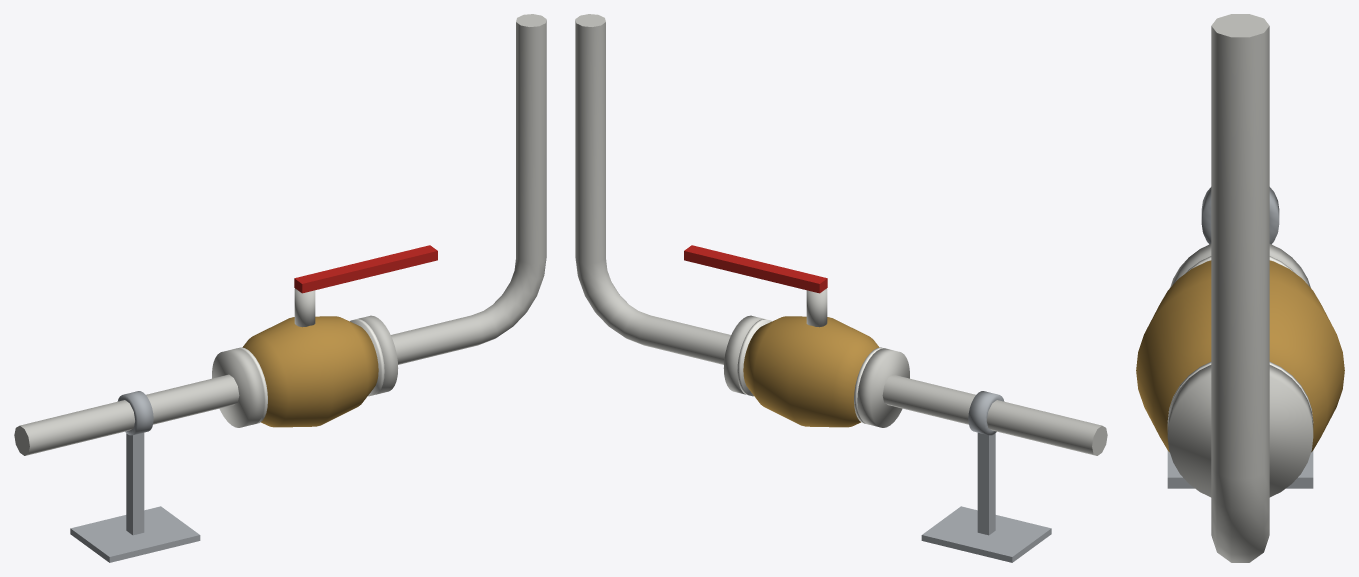
File: yakit_oksijen_hatti_vana.glb
3 renders of one model, left to right at view 1: azimuth 30°, elevation 25°; view 2: azimuth 150°, elevation 25°; view 3: azimuth 270°, elevation 25°, orthographic. The views are drawn at different scales.
Visible parts, largest first — view 1: Boru_Cikis, Vana_Govde, Boru_Giris, Destek_Taban, Flans_Giris, Vana_Kolu, Destek_Ayak, Flans_Cikis, Boru_Kelepcesi, Vana_Mili; view 2: Boru_Cikis, Vana_Govde, Boru_Giris, Destek_Taban, Flans_Giris, Vana_Kolu, Destek_Ayak, Flans_Cikis, Boru_Kelepcesi, Vana_Mili; view 3: Boru_Cikis, Vana_Govde, Flans_Cikis, Boru_Kelepcesi, Flans_Giris, Destek_Taban, Conta_Cikis.
Part boxes in pixels (box(x1,y1,x2,y2)): Boru_Cikis: box(391, 14, 546, 364); Vana_Govde: box(242, 316, 378, 427); Boru_Giris: box(14, 374, 239, 455); Destek_Taban: box(70, 506, 200, 562); Flans_Giris: box(212, 348, 264, 427); Vana_Kolu: box(294, 245, 437, 293); Destek_Ayak: box(126, 432, 144, 535); Flans_Cikis: box(358, 315, 398, 394); Boru_Kelepcesi: box(117, 391, 153, 435); Vana_Mili: box(294, 288, 315, 327); Boru_Cikis: box(575, 14, 730, 364); Vana_Govde: box(743, 316, 879, 427); Boru_Giris: box(882, 374, 1107, 455); Destek_Taban: box(921, 506, 1051, 562); Flans_Giris: box(857, 348, 909, 427); Vana_Kolu: box(684, 245, 827, 293); Destek_Ayak: box(977, 432, 995, 535); Flans_Cikis: box(723, 315, 763, 394); Boru_Kelepcesi: box(968, 391, 1004, 435); Vana_Mili: box(806, 288, 827, 327); Boru_Cikis: box(1211, 14, 1269, 562); Vana_Govde: box(1136, 260, 1344, 452); Flans_Cikis: box(1167, 365, 1313, 497); Boru_Kelepcesi: box(1201, 187, 1279, 244); Flans_Giris: box(1170, 244, 1310, 287); Destek_Taban: box(1167, 451, 1313, 488); Conta_Cikis: box(1167, 362, 1313, 422).
Bounding box in the file's own units: 0.4614 × 0.355 × 0.086.
